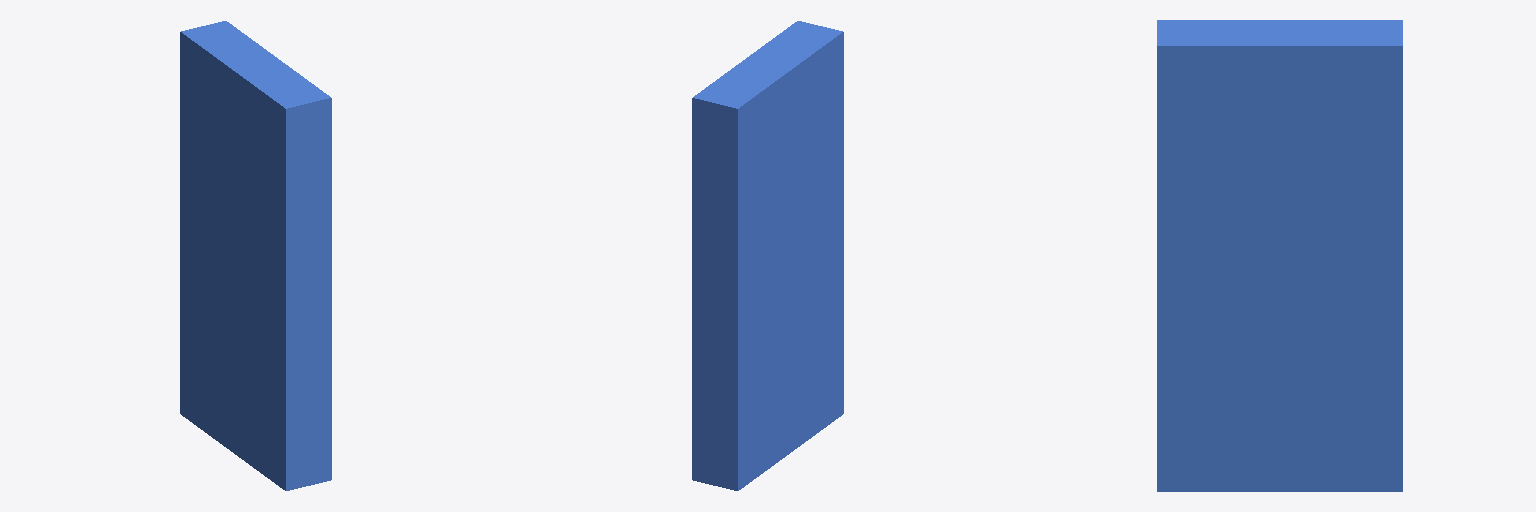
The robot description file, URDF, robot "block":
<?xml version="0.0" ?>
<robot name="block">
  <link name="base_link">
    <inertial>
      <origin rpy="0 0 0" xyz="0 0 0"/>
       <mass value=".1"/>
       <inertia ixx="1" ixy="0" ixz="0" iyy="1" iyz="0" izz="1"/>
    </inertial>
    
    <visual>
      <origin rpy="0 0 0" xyz="0 0 0"/>
      <geometry>
        <box size="0.05 0.2 0.4"/>      
      </geometry>
      <material name="cornflowerblue">
        <color rgba="0.3921 0.5843 0.9294 0.5"/>
      </material>
    </visual>

    <collision>
      <origin rpy="0 0 0" xyz="0 0 0"/>
      <geometry>
        <box size="0.05 0.2 0.4"/>      
      </geometry>
    </collision>
  </link>
</robot>

--- Render facts (derived) ---
Views: 3 orthographic renders of the robot side by side, from view 1: azimuth 30°, elevation 25°; view 2: azimuth 150°, elevation 25°; view 3: azimuth 270°, elevation 25°.
Robot: block — 1 links, 0 joints (none); root link base_link; default pose: every joint at zero.
Visible links, largest first — view 1: base_link; view 2: base_link; view 3: base_link.
Boxes of the visible links, x1,y1,x2,y2 form: base_link: [180, 21, 331, 490]; base_link: [692, 21, 843, 490]; base_link: [1157, 20, 1402, 491].
Size in the robot's own frame: 0.05 by 0.2 by 0.4 metres.
Geometry: primitives only (box / cylinder / sphere), no mesh files.